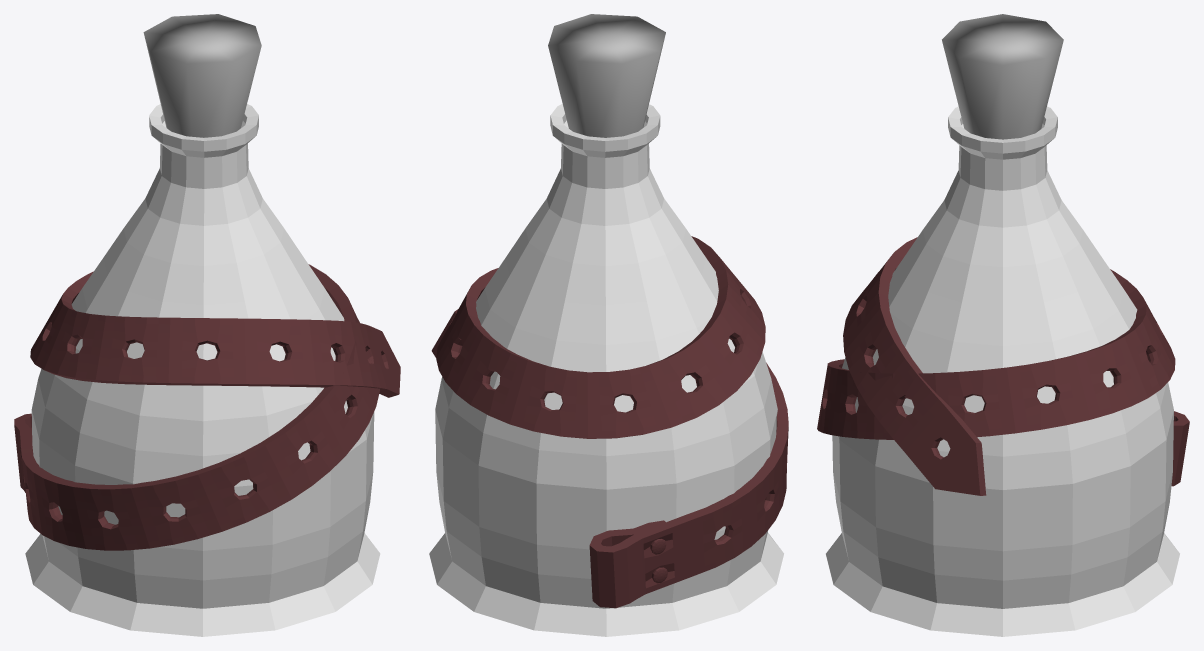
The model's file is S_HealthManaPotion.fbx.
3 renders of one model, left to right at view 1: azimuth 30°, elevation 25°; view 2: azimuth 150°, elevation 25°; view 3: azimuth 270°, elevation 25°, orthographic.
Visible parts, largest first — view 1: Potion:pCylinder5polySurface5, Potion:Group21977, polySurface1; view 2: Potion:pCylinder5polySurface5, Potion:Group21977, polySurface1; view 3: Potion:pCylinder5polySurface5, Potion:Group21977, polySurface1.
Part boxes in pixels (x1,y1,x2,y2): Potion:pCylinder5polySurface5: (25, 104, 380, 636); Potion:Group21977: (14, 264, 400, 550); polySurface1: (143, 14, 261, 137); Potion:pCylinder5polySurface5: (429, 104, 783, 636); Potion:Group21977: (431, 236, 788, 608); polySurface1: (548, 14, 665, 137); Potion:pCylinder5polySurface5: (826, 106, 1179, 636); Potion:Group21977: (817, 237, 1189, 495); polySurface1: (942, 14, 1063, 139).
Bounding box in the file's own units: 7.44 × 11 × 6.99.
